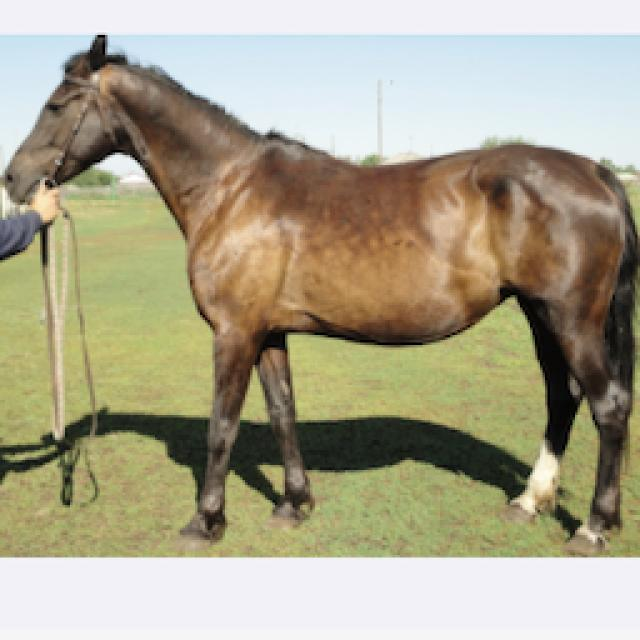Horse: (0, 30, 638, 552)
